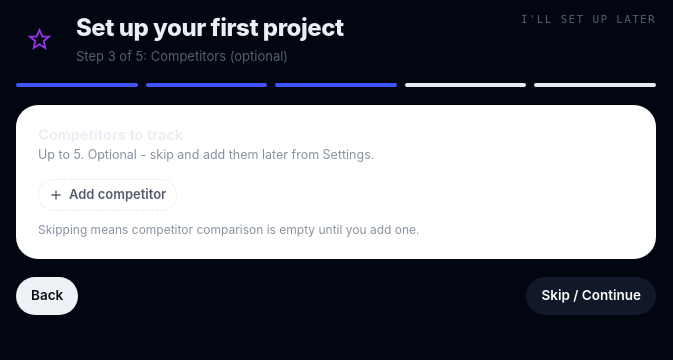
Test: OnboardingWizard › keeps a rejected competitor draft and says why
The width and height of the screenshot is (673, 360).
Click the button "Add competitor" at (108, 194), box [38,178,177,210]
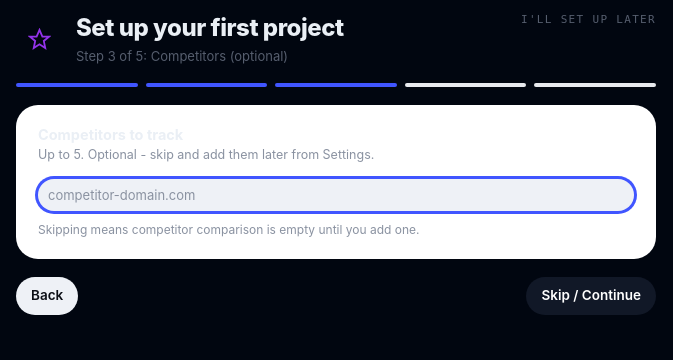
Type "Nike" into the field with placeholder "competitor-domain.com" at (336, 194), box [38,178,634,210]
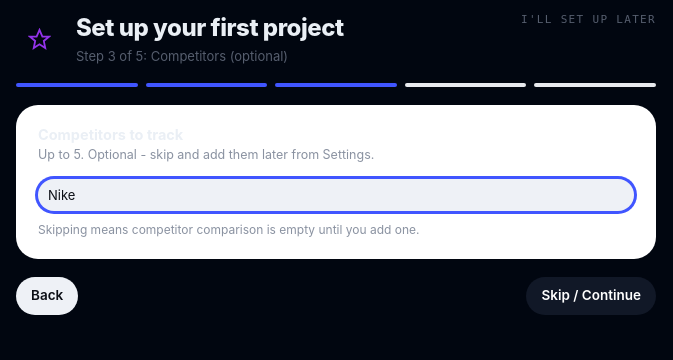
Press Enter in the field with placeholder "competitor-domain.com", box [38,178,634,210]
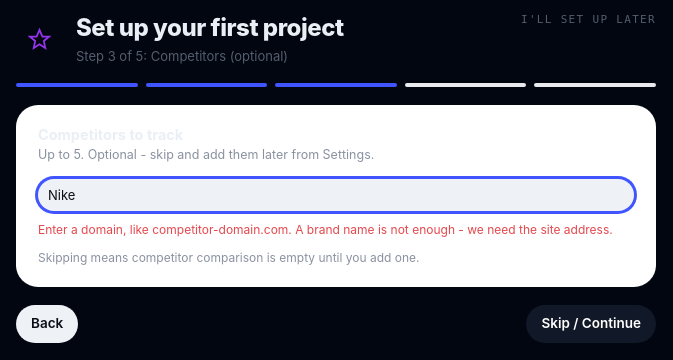
Now the message shows "Enter a domain, like competitor-domain.com.", box [38,222,613,236]
